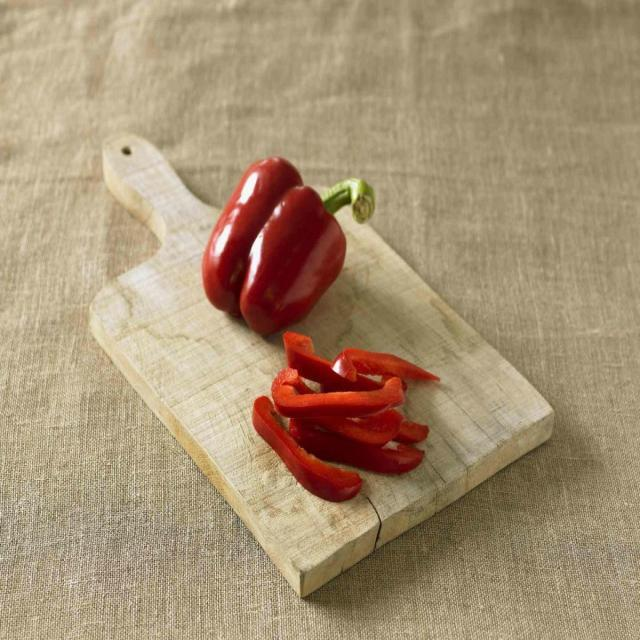bell_pepper: (205, 148, 381, 331)
